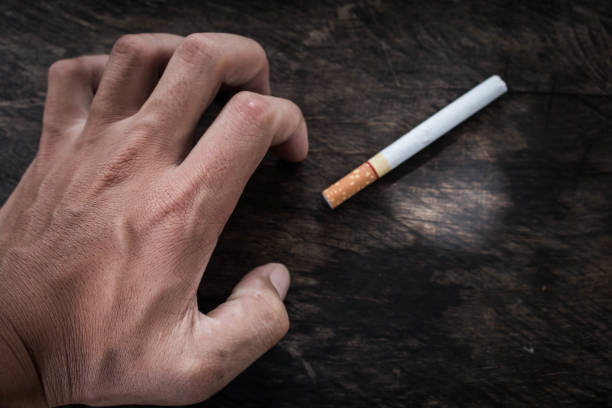cigarette: (320, 73, 507, 209)
